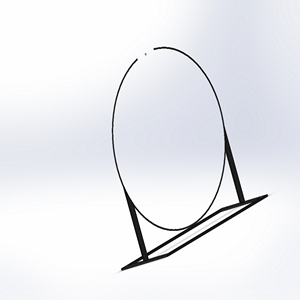circle: (108, 43, 270, 271)
